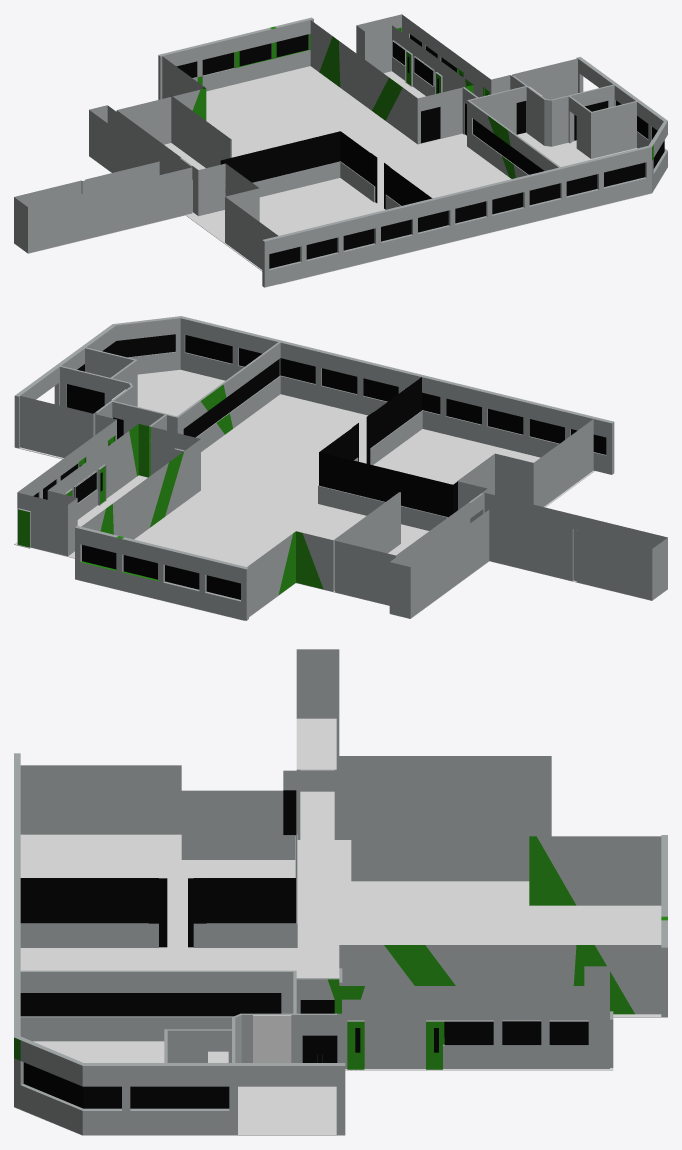
Rendered from FPF_predio.fbx.
The picture shows the model from 3 angles, top to bottom: view 1: azimuth 30°, elevation 25°; view 2: azimuth 150°, elevation 25°; view 3: azimuth 270°, elevation 25°; orthographic projection. The views are drawn at different scales.
Parts seen in each view (by area): view 1: Line001, Piso, Rectangle002, Line007, Rectangle017, Janela Vidro008, Line005, Line002, Line006, Janela Vidro012, Janela Vidro007, Janela Vidro005 (+1 smaller); view 2: Line001, Piso, Rectangle002, Rectangle017, Line007, Janela Vidro008, Line006, Janela Vidro012, Line002, Janela Vidro006, Janela Vidro005, Line005 (+2 smaller); view 3: Line001, Piso, Rectangle002, Line006, Janela Vidro005, Janela Vidro006, Line007, Janela Vidro007, Line002, Line005, Rectangle029, Rectangle017 (+8 smaller).
Boxes of the visible parts, bbox=[...] form: Line001: bbox=[14, 14, 577, 269]; Piso: bbox=[14, 66, 667, 284]; Rectangle002: bbox=[262, 59, 667, 287]; Line007: bbox=[269, 100, 664, 268]; Rectangle017: bbox=[158, 17, 313, 99]; Janela Vidro008: bbox=[221, 131, 340, 182]; Line005: bbox=[568, 96, 636, 158]; Line002: bbox=[512, 75, 614, 146]; Line006: bbox=[252, 161, 400, 209]; Janela Vidro012: bbox=[176, 34, 308, 77]; Janela Vidro007: bbox=[340, 131, 374, 185]; Janela Vidro005: bbox=[473, 119, 543, 174]; Line001: bbox=[17, 342, 667, 618]; Piso: bbox=[14, 369, 667, 620]; Rectangle002: bbox=[18, 316, 614, 474]; Rectangle017: bbox=[75, 526, 248, 620]; Line007: bbox=[77, 334, 606, 454]; Janela Vidro008: bbox=[319, 452, 452, 517]; Line006: bbox=[318, 410, 447, 530]; Janela Vidro012: bbox=[82, 545, 240, 599]; Line002: bbox=[60, 366, 133, 418]; Janela Vidro006: bbox=[370, 377, 421, 447]; Janela Vidro005: bbox=[183, 359, 279, 437]; Line005: bbox=[85, 347, 137, 406]; Line001: bbox=[20, 649, 661, 1070]; Piso: bbox=[14, 718, 667, 1135]; Rectangle002: bbox=[14, 753, 336, 1134]; Line006: bbox=[20, 834, 297, 947]; Janela Vidro005: bbox=[20, 993, 281, 1016]; Janela Vidro006: bbox=[20, 878, 158, 923]; Line007: bbox=[23, 1062, 229, 1108]; Janela Vidro007: bbox=[194, 878, 296, 923]; Line002: bbox=[232, 1013, 337, 1062]; Line005: bbox=[164, 1029, 231, 1062]; Rectangle029: bbox=[253, 1015, 291, 1062]; Rectangle017: bbox=[661, 835, 667, 1016].
Size of the model in its own units: 1548 by 121 by 1027.
